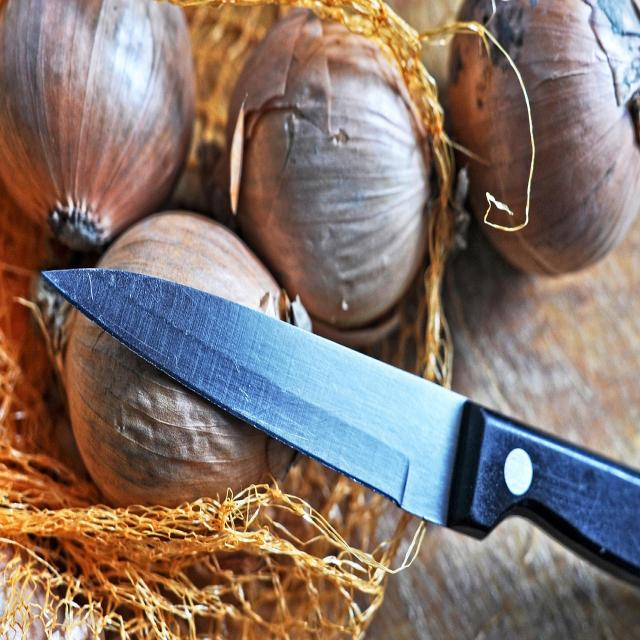Knife: (43, 269, 640, 583)
